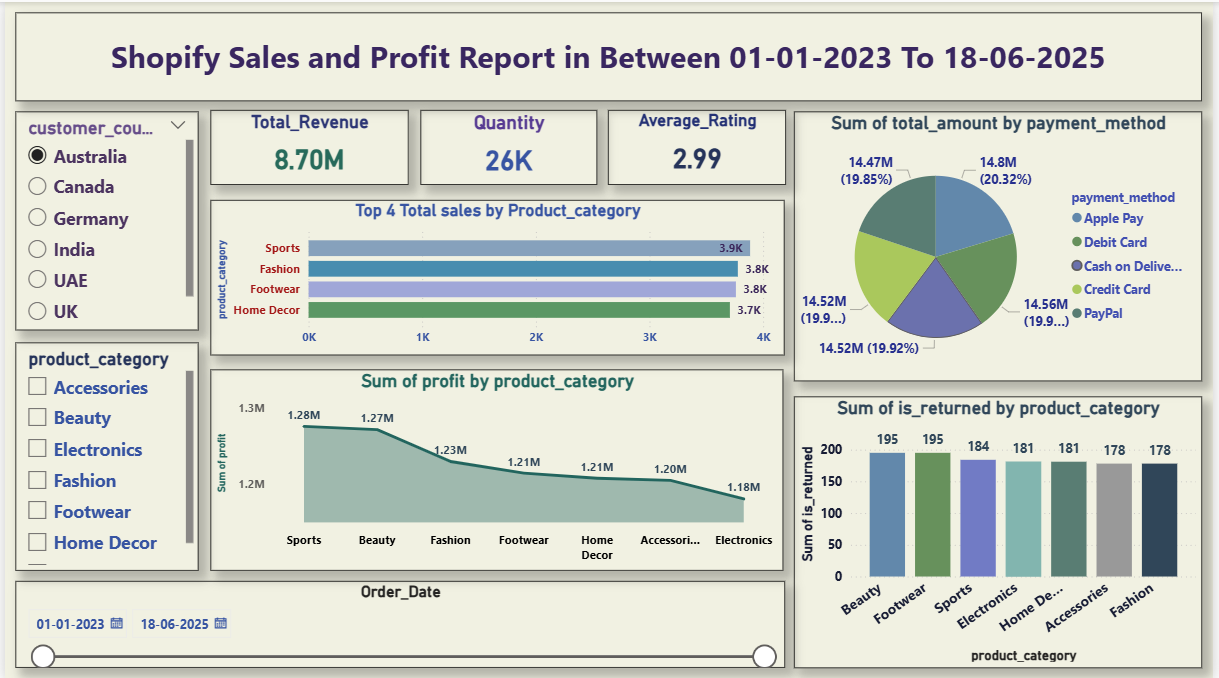

The page's visual inventory and layout, read from the dashboard file:
{"tool":"powerbi","page":{"name":"Page 1","canvas":[1280,720],"ordinal":0},"visuals":[{"type":"pieChart","fields":{"Category":["all_methods_payment.payment_method"],"Y":["Sum(all_methods_payment.total_amount)"]},"box":[836.7,116.1,432.6,286.3],"z":0},{"type":"slicer","fields":{"Values":["shopy 2.customer_country"]},"box":[11.1,116.1,194.1,232.2],"z":1000},{"type":"stackedAreaChart","fields":{"Category":["shopy 2.product_category"],"Y":["Sum(shopy 2.profit)"]},"box":[217.9,389.7,607.6,213.1],"z":2000},{"type":"textbox","box":[11.1,11.1,1258.2,93.8],"z":3000},{"type":"slicer","title":"Order_Date","fields":{"Values":["shopy 2.order_date"]},"box":[11.1,614,816,92.3],"z":4000},{"type":"slicer","fields":{"Values":["shopy 2.product_category"]},"box":[11.1,361.1,194.1,241.8],"z":5000},{"type":"card","title":"Total_Revenue","fields":{"Values":["Sum(shopy 2.revenue)"]},"box":[217.3,115.3,209.8,79.4],"z":6000},{"type":"card","title":"Quantity","fields":{"Values":["Sum(shopy 2.quantity)"]},"box":[440.3,115.3,187.1,79.4],"z":7000},{"type":"card","title":"Average_Rating","fields":{"Values":["Avg(shopy 2.rating)"]},"box":[638.7,115.3,189,79.4],"z":8000},{"type":"clusteredColumnChart","fields":{"Category":["shopy 2.product_category"],"Y":["Sum(shopy 2.is_returned)"]},"box":[836.7,418.3,432.6,287.9],"z":8001},{"type":"barChart","title":"Top 4  Total sales by Product_category","fields":{"Category":["shopy 2.product_category"],"Y":["Sum(shopy 2.quantity)"]},"box":[217.3,209.8,608.5,164.4],"z":8002}]}

Visuals, with their boxes in screenshot pixels (x1, y1, x2, y2), scaled from the page's 1280x720 canvas onto the 1219x678 screenshot:
pieChart - all_methods_payment.payment_method x Sum(all_methods_payment.total_amount): detection(797, 109, 1209, 379)
slicer - shopy 2.customer_country: detection(11, 109, 195, 328)
stackedAreaChart - shopy 2.product_category x Sum(shopy 2.profit): detection(208, 367, 786, 568)
textbox: detection(11, 10, 1209, 99)
"Order_Date" slicer: detection(11, 578, 788, 665)
slicer - shopy 2.product_category: detection(11, 340, 195, 568)
"Total_Revenue" card: detection(207, 109, 407, 183)
"Quantity" card: detection(419, 109, 598, 183)
"Average_Rating" card: detection(608, 109, 788, 183)
clusteredColumnChart - shopy 2.product_category x Sum(shopy 2.is_returned): detection(797, 394, 1209, 665)
"Top 4  Total sales by Product_category" barChart: detection(207, 198, 786, 352)
